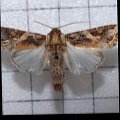Spodoptera litura: (1, 19, 119, 93)
